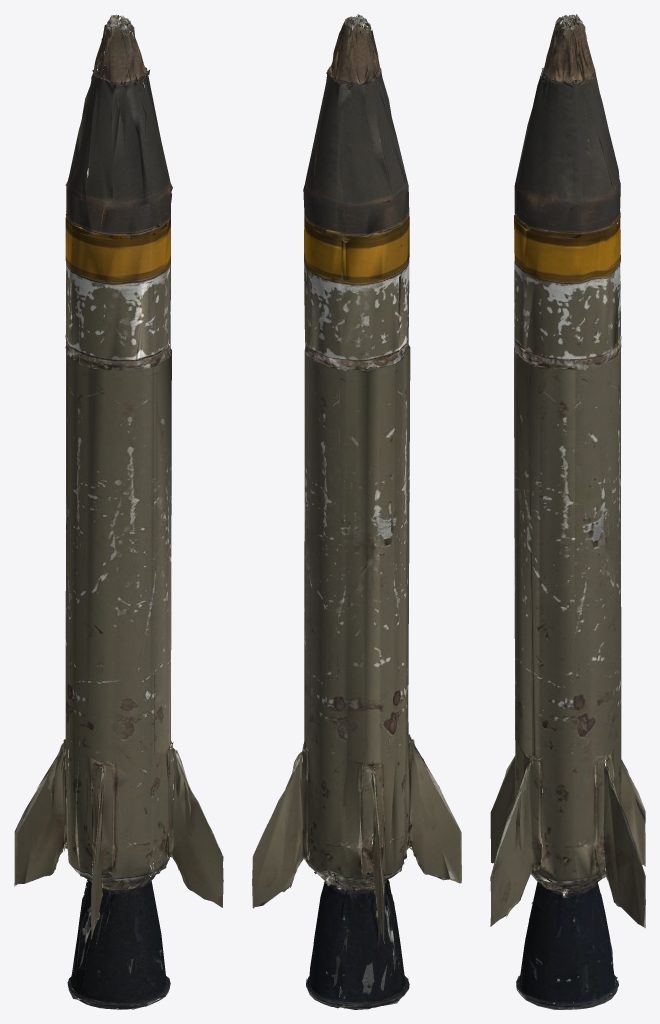
The model's file is rocket.glb.
3 views of the same model, side by side, from view 1: azimuth 30°, elevation 25°; view 2: azimuth 150°, elevation 25°; view 3: azimuth 270°, elevation 25° (orthographic).
Visible parts, largest first — view 1: Mesh_0; view 2: Mesh_0; view 3: Mesh_0.
Boxes of the visible parts, left/top/right/bottom form: Mesh_0: left=14, top=14, right=223, bottom=1009; Mesh_0: left=252, top=14, right=461, bottom=1009; Mesh_0: left=490, top=14, right=645, bottom=1009.
Bounding box in the file's own units: 0.0857 × 0.6006 × 0.0869.
1 material, 1 textured.
